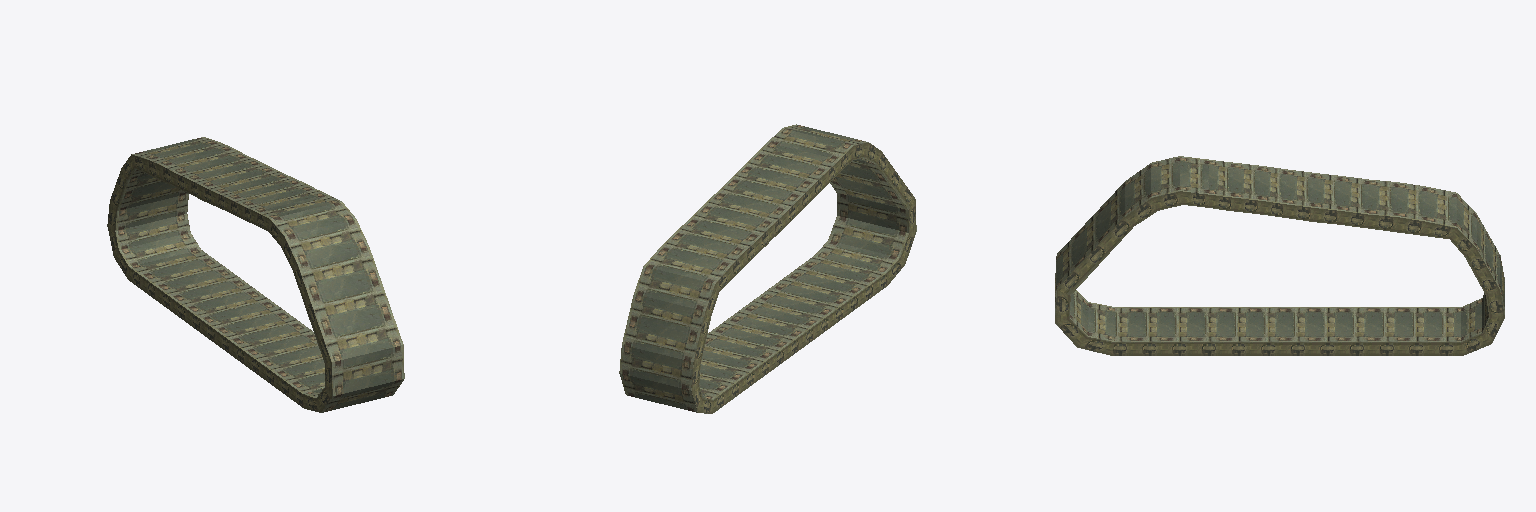
3 views of the same model, side by side, from view 1: azimuth 30°, elevation 25°; view 2: azimuth 150°, elevation 25°; view 3: azimuth 270°, elevation 25° (orthographic).
Visible parts, largest first — view 1: Node 0; view 2: Node 0; view 3: Node 0.
Boxes of the visible parts, x1,y1,x2,y2 form: Node 0: [107, 137, 404, 412]; Node 0: [619, 124, 916, 413]; Node 0: [1055, 156, 1504, 355].
Size of the model in its own units: 1.7 by 3.72 by 9.22.
1 materials, 1 textured.